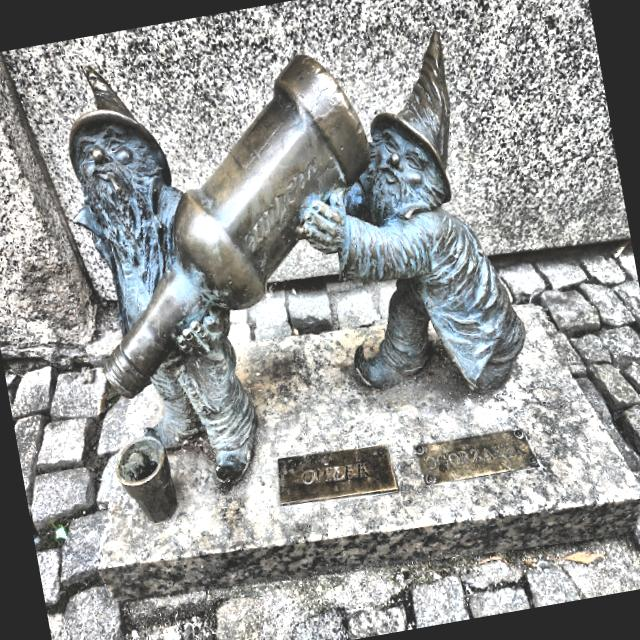Ogorzalek_i_Opilek: (69, 32, 523, 483)
